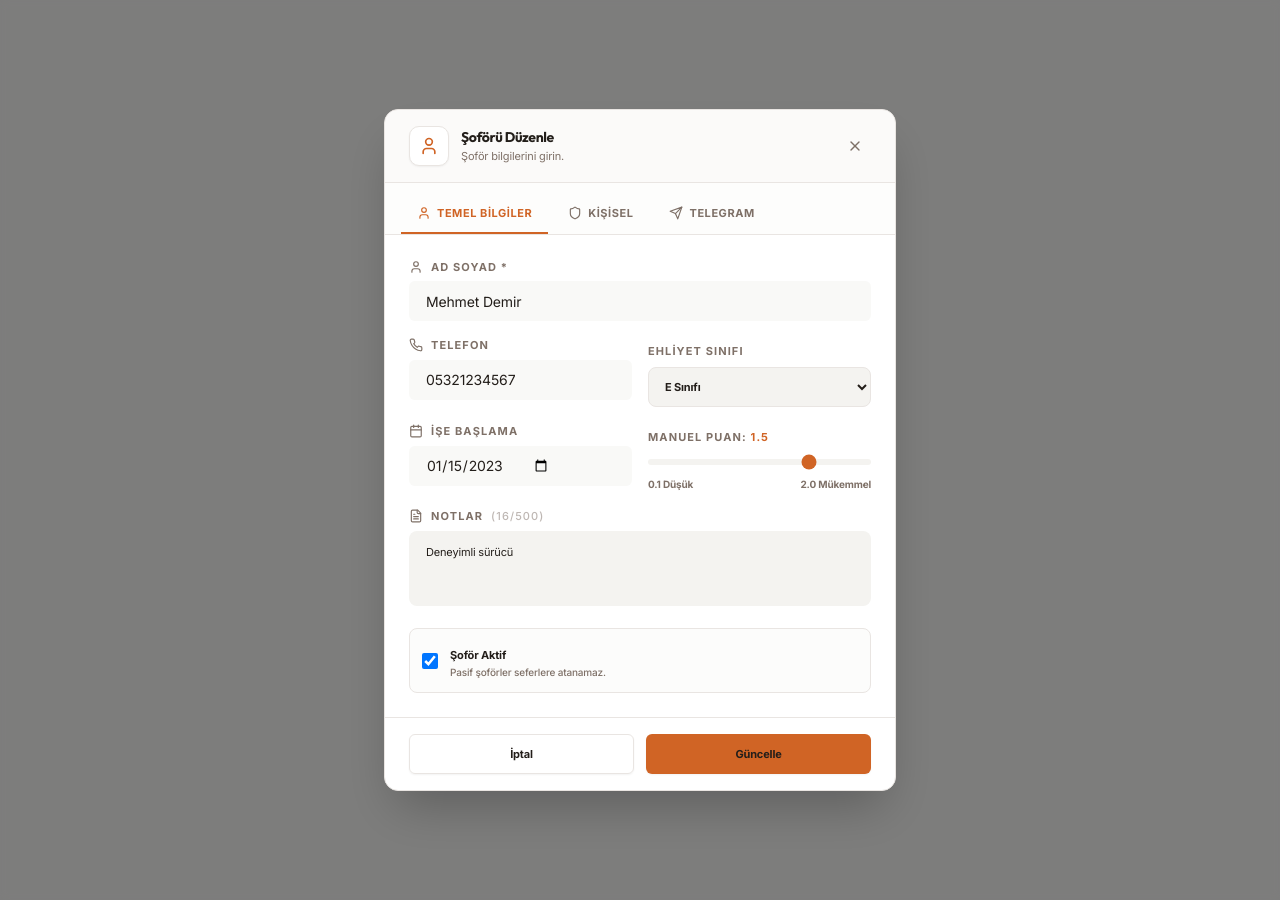
it: DriverModal — edit mode › switches to Kişisel tab
What coordinates should you click on to do the following:
click the button "Kişisel"
I would click on:
 (601, 214)
Its box is [552,195,650,234].
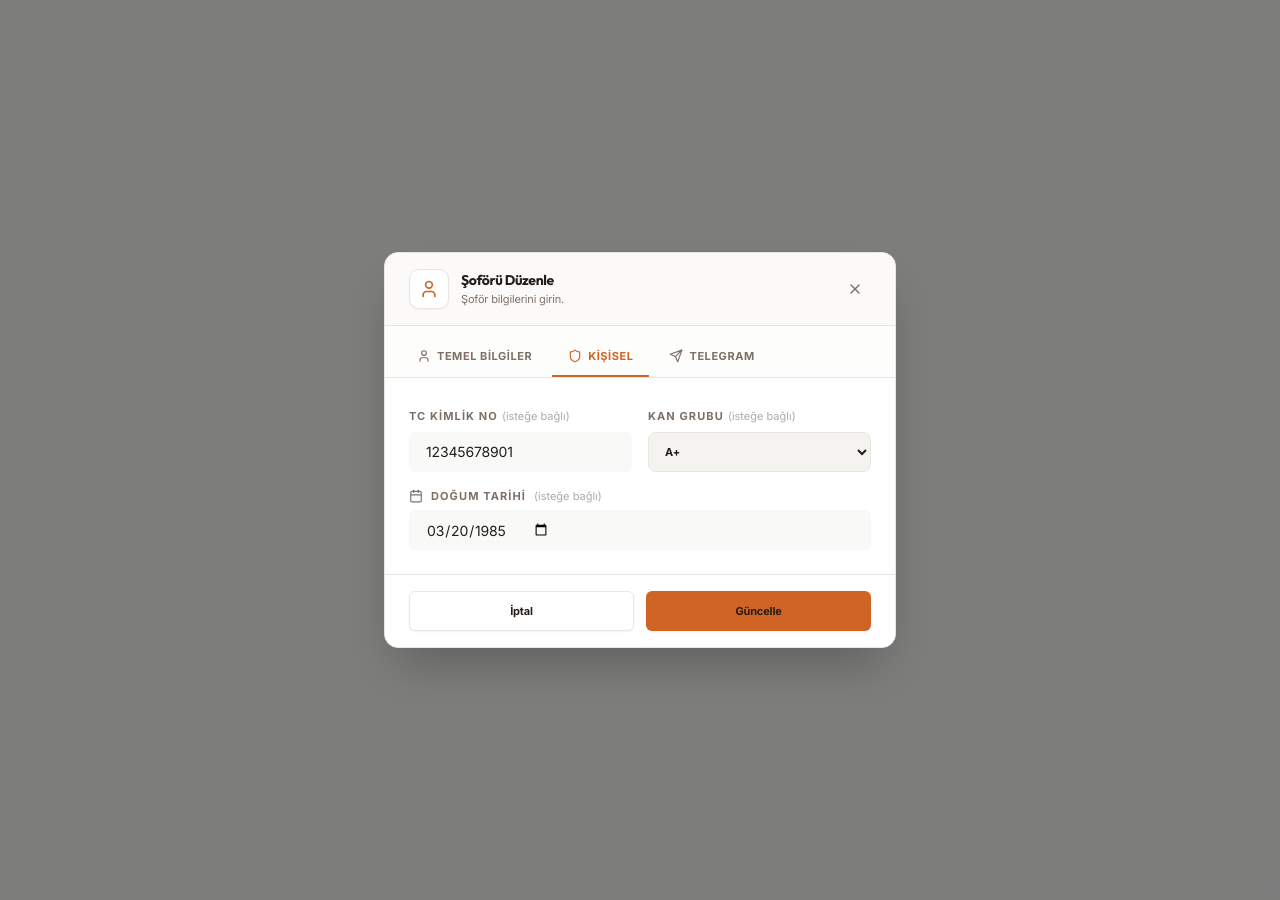
expect the field with placeholder "TC Kimlik No" is shown: met, box [409,432,632,472]
